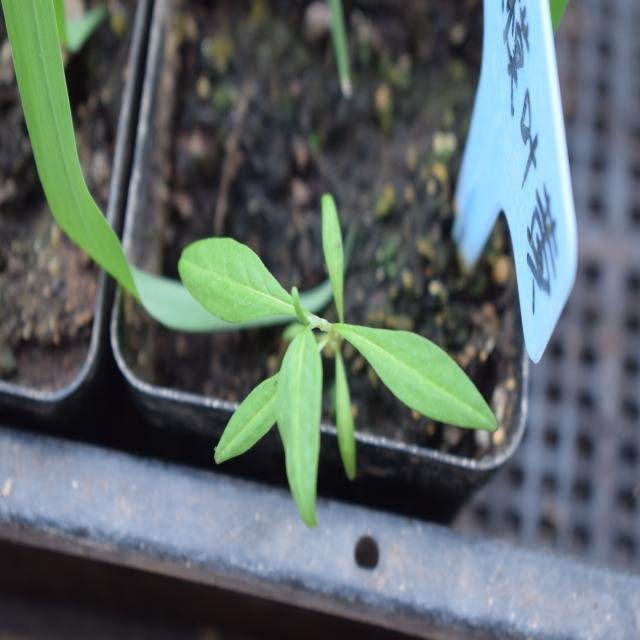white_smart_weed: (163, 195, 492, 517)
